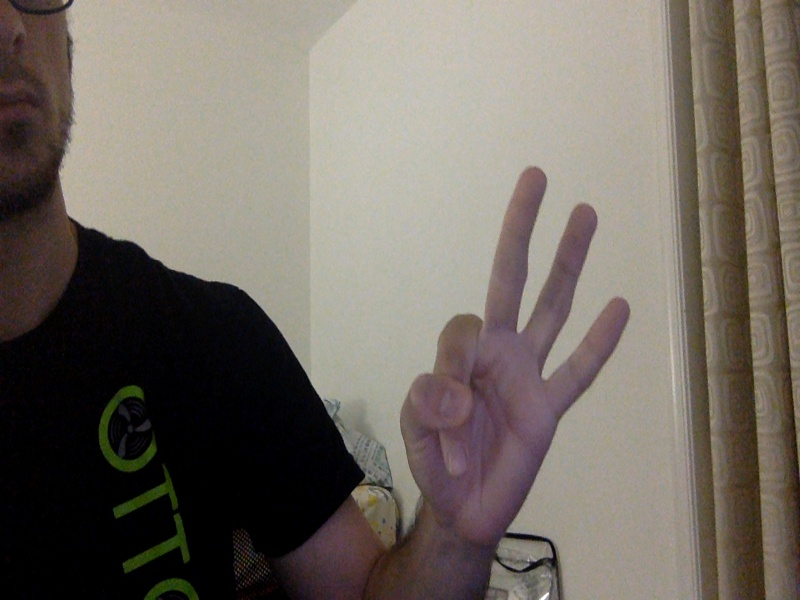3-hand: (401, 164, 631, 549)
